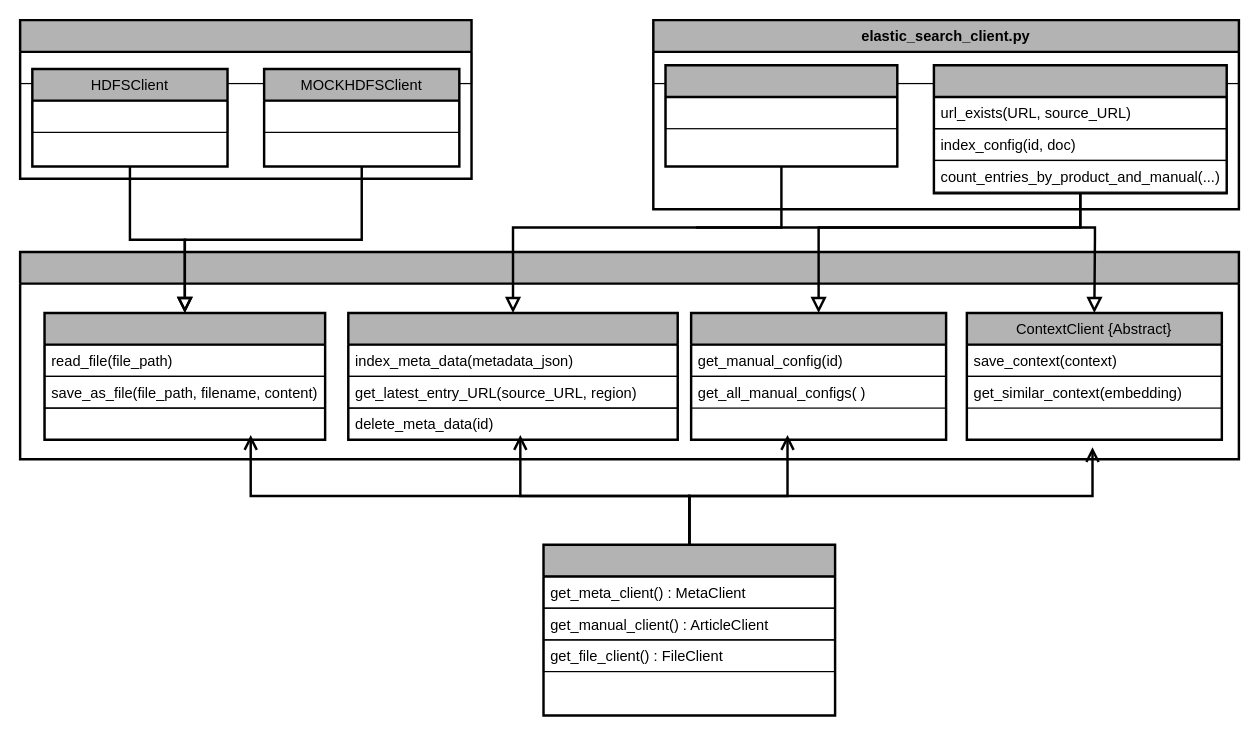
This 1259x736 diagram has some shape labels left out. The shapes that lost their labels are listed below. From the top down, each one's box as (x1, y1, x2, y2) in pixels, then its label:
(18, 18, 472, 179): hdfs_client.py
(664, 63, 898, 167): MOCKElasticSeachClient
(932, 63, 1227, 194): ElasticSearchClient
(18, 250, 1240, 460): abstract_client.py
(43, 311, 326, 440): FileClient {Abstract}
(346, 311, 678, 440): MetaClient {Abstract}
(689, 311, 947, 440): ManualClient {Abstract}
(542, 543, 836, 716): client_factory.py
